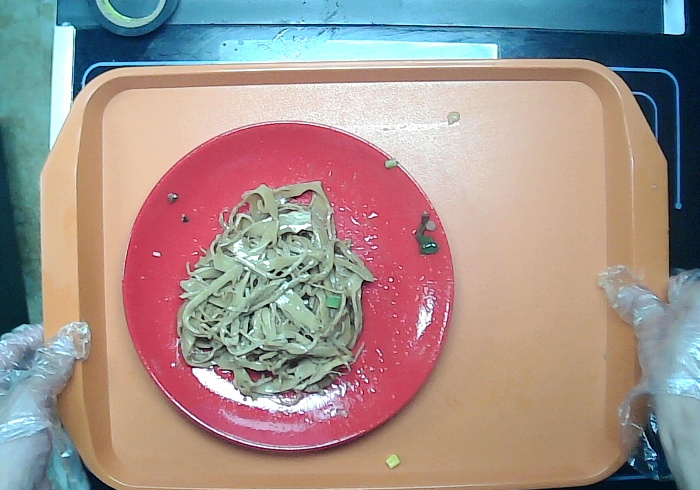HZYJPL-Hong_Se_Yuan_Pan: (119, 116, 464, 460)
